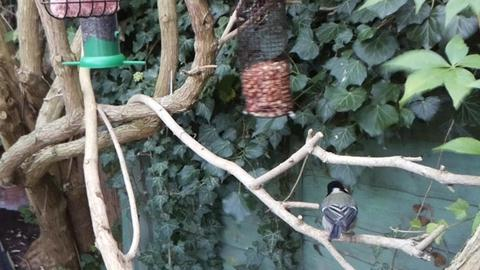great tit: (320, 180, 358, 244)
